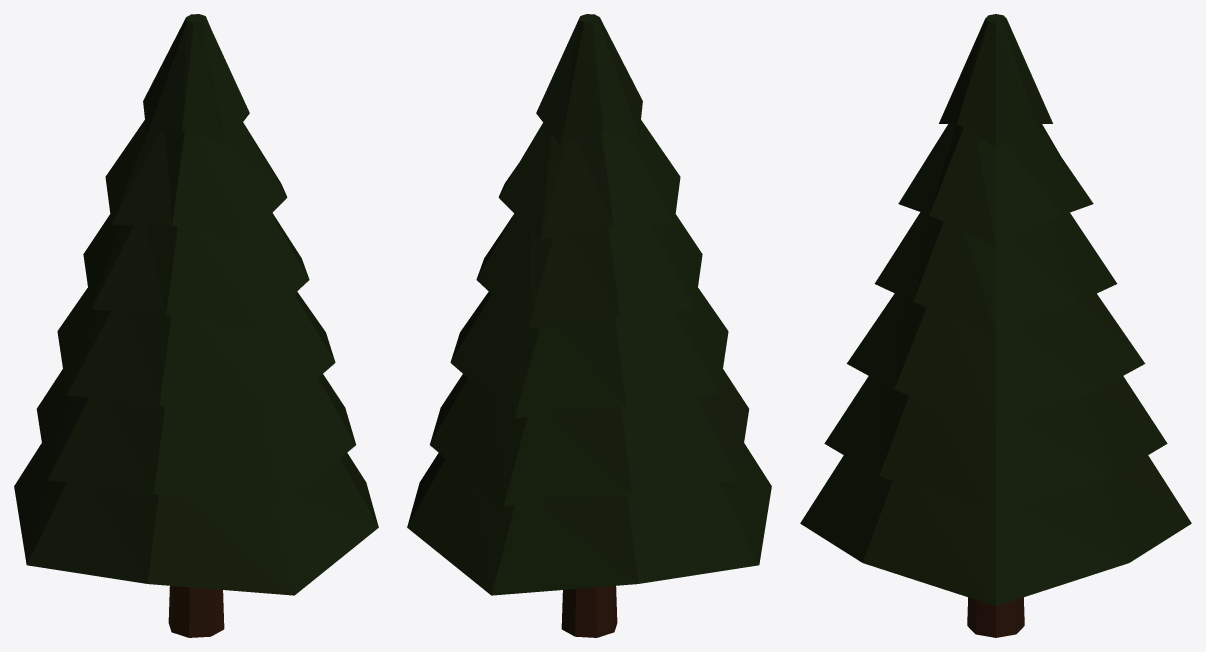
Rendered from tree.obj.
3 views of the same model, side by side, from view 1: azimuth 30°, elevation 25°; view 2: azimuth 150°, elevation 25°; view 3: azimuth 270°, elevation 25° (orthographic).
Parts seen in each view (by area): view 1: Cylinder; view 2: Cylinder; view 3: Cylinder.
Boxes of the visible parts, x1,y1,x2,y2 form: Cylinder: (14,14,378,637); Cylinder: (407,14,771,637); Cylinder: (800,14,1191,637).
Size of the model in its own units: 3.71 by 6.34 by 3.71.
